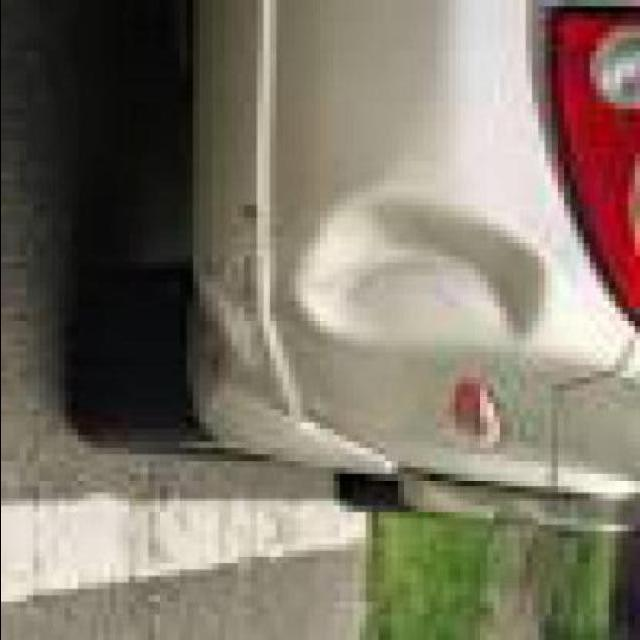rear-bumper-dent: (286, 170, 564, 355)
